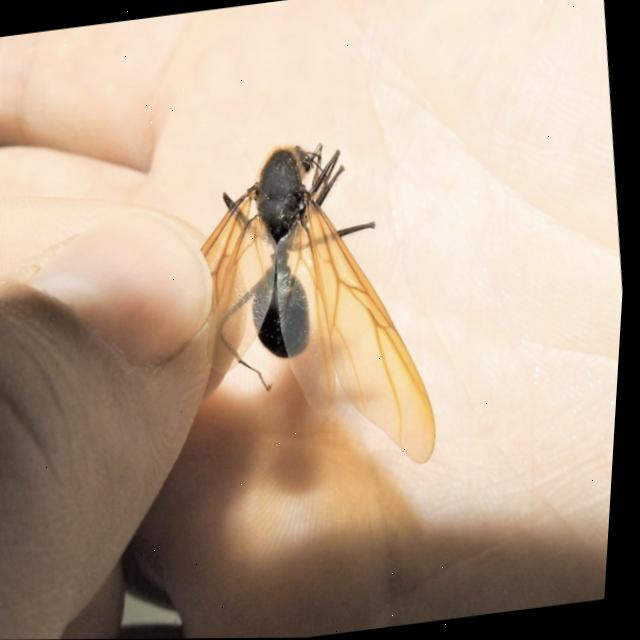Alive-Male-Alate: (152, 126, 459, 495)
